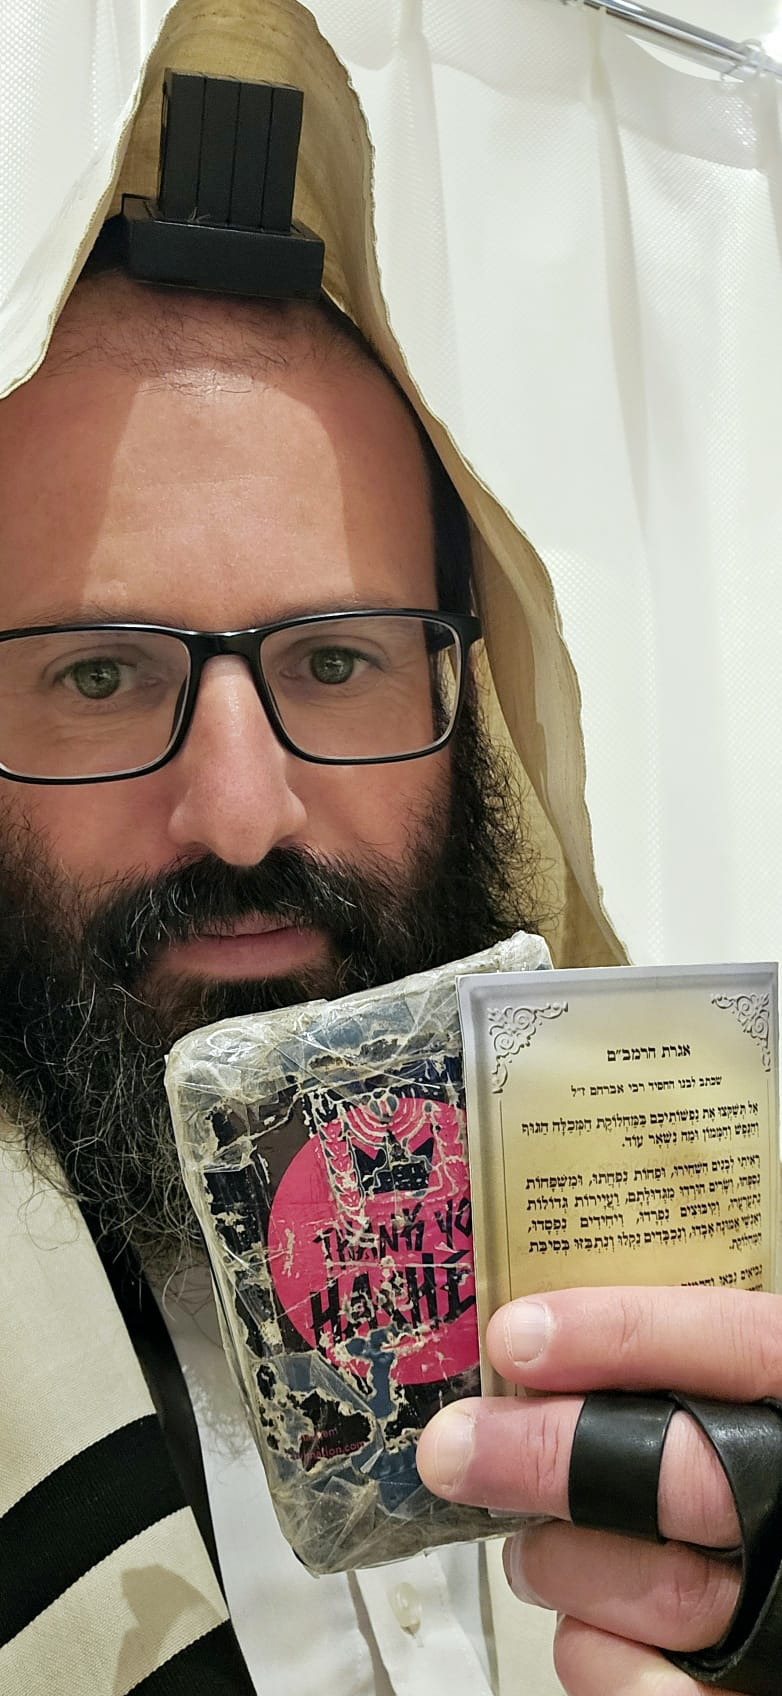tefillin: (124, 71, 321, 301)
